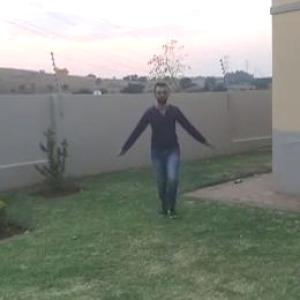land: (117, 83, 214, 220)
